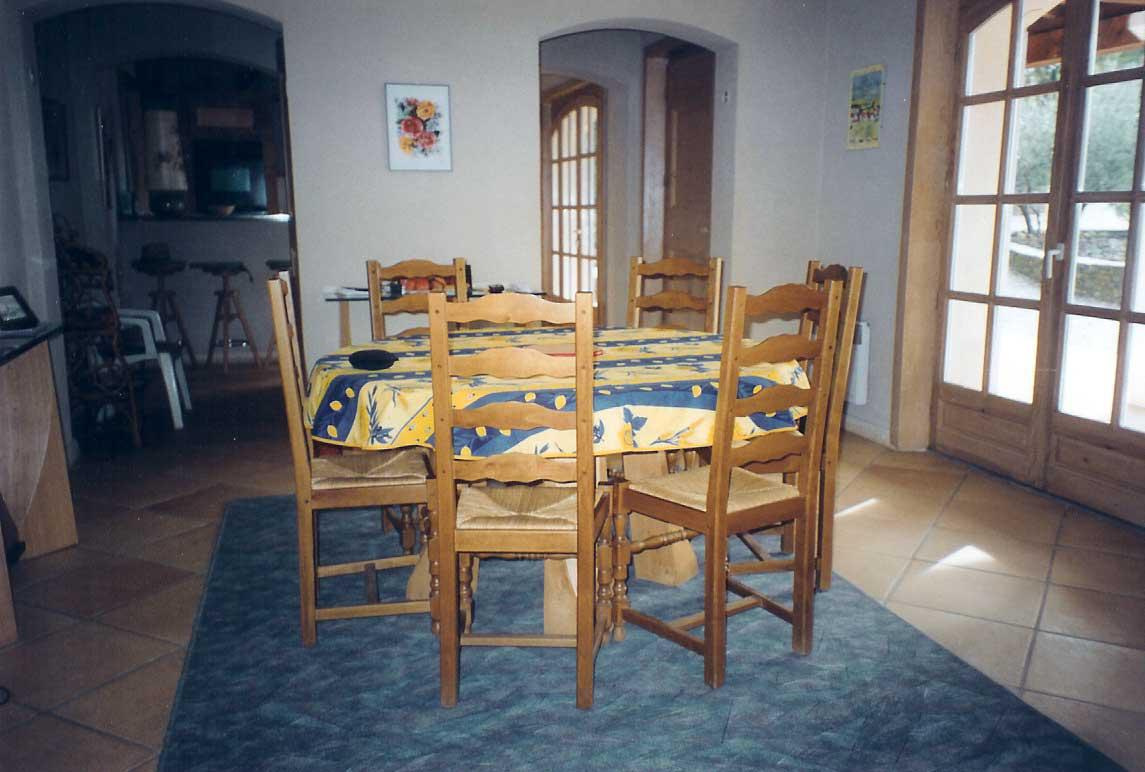Otro Obstaculo: (65, 245, 140, 449)
Puerta: (941, 10, 1144, 514), (548, 97, 602, 293)
